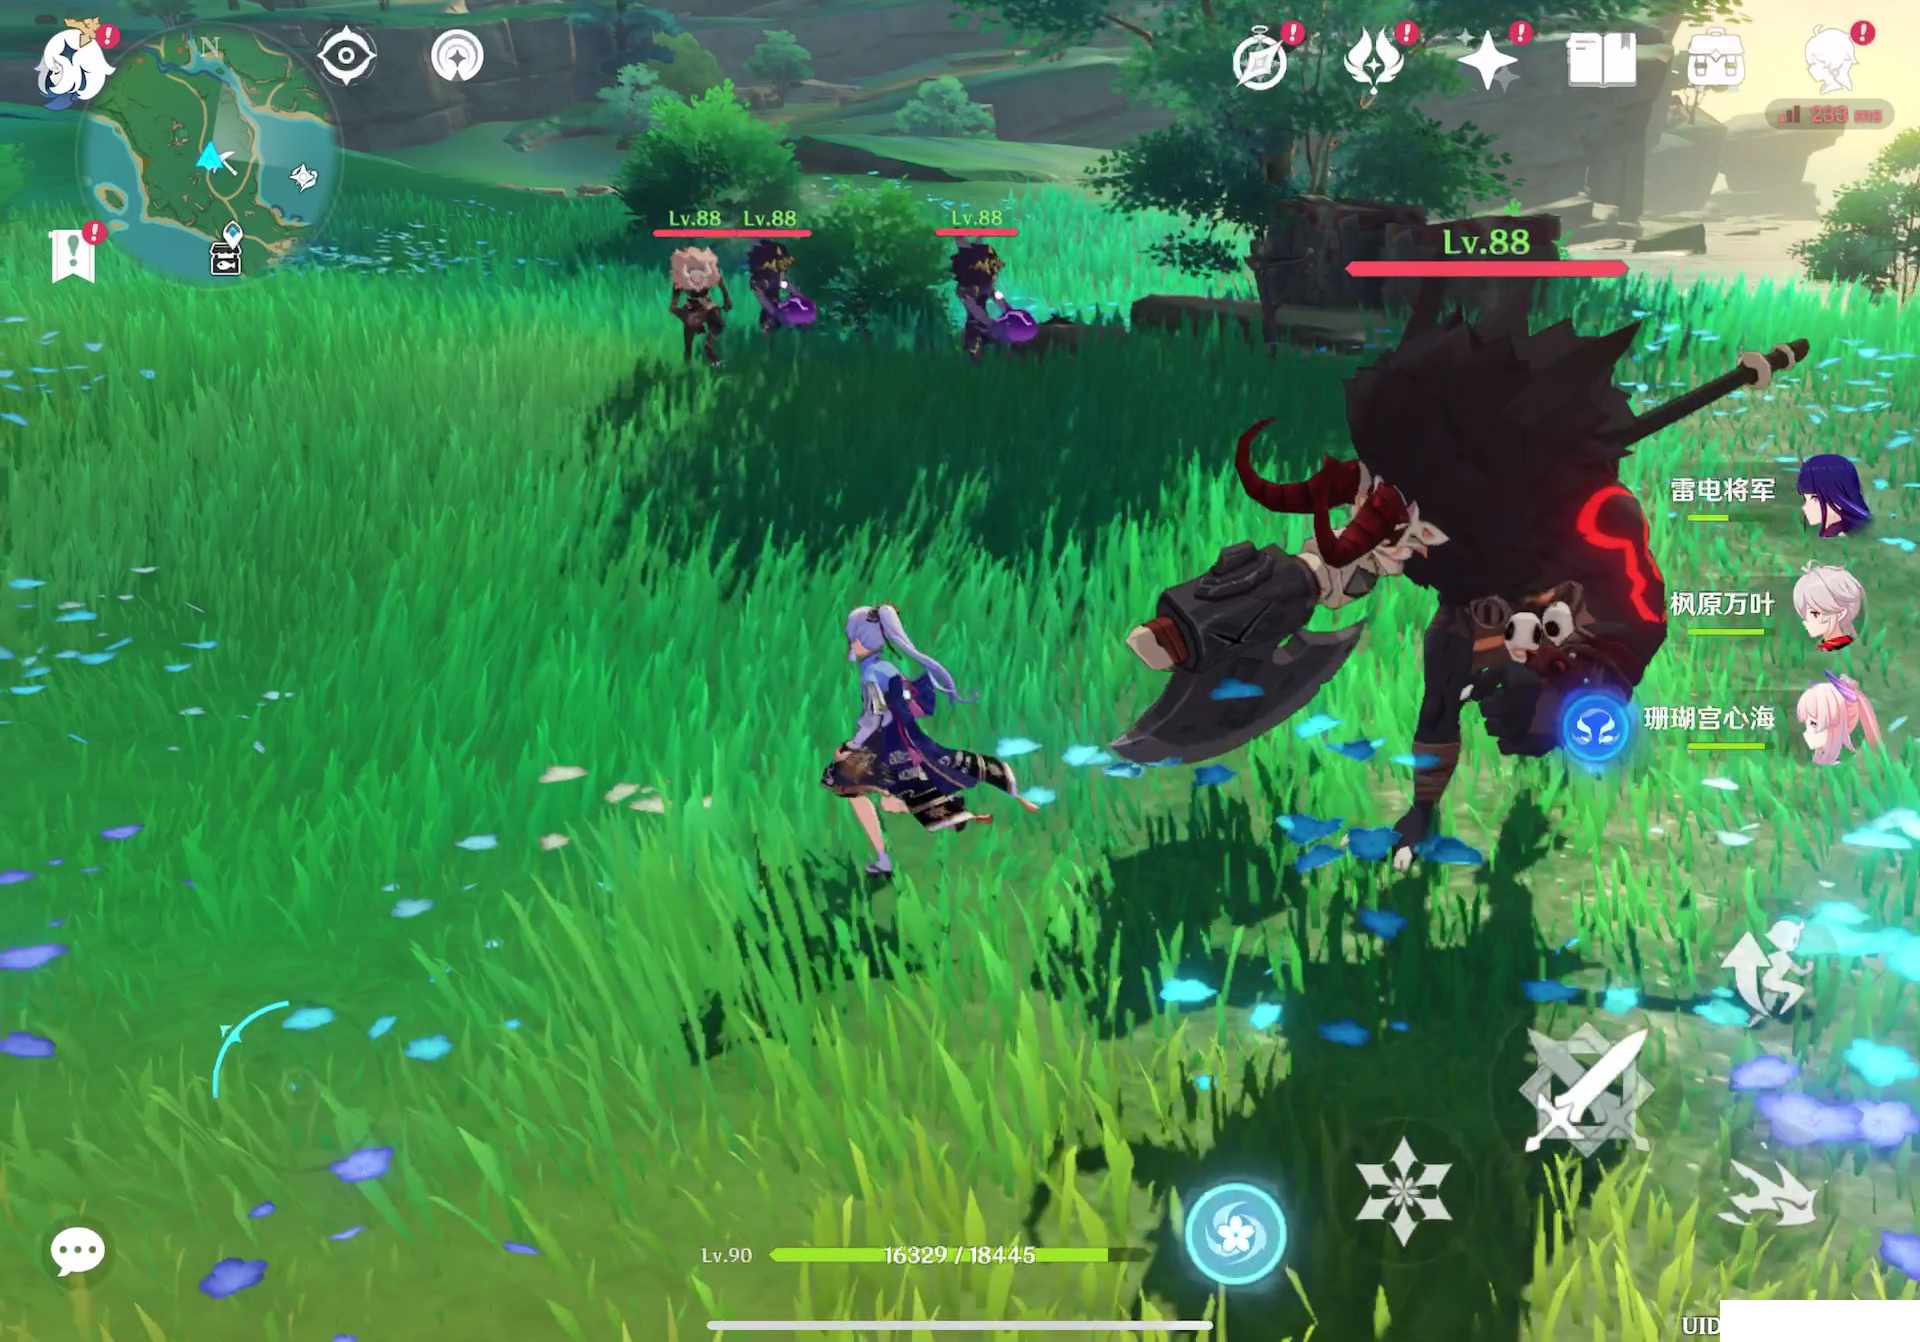NTR: (1125, 298, 1657, 834)
丘丘人: (940, 245, 1045, 379), (746, 248, 826, 341), (670, 252, 737, 356)
神里绫龟: (823, 600, 1021, 858)
